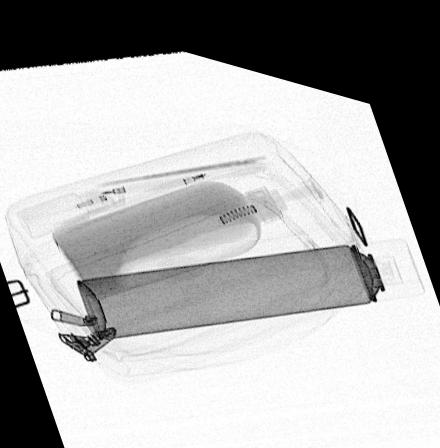Sprayer: (73, 211, 425, 335)
